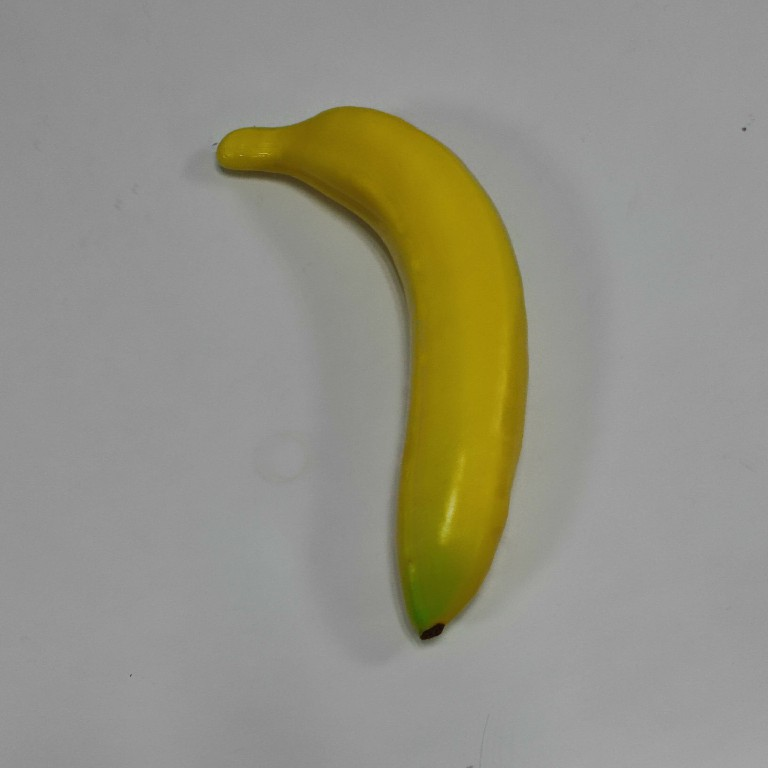fruit_banana: (210, 100, 536, 648)
